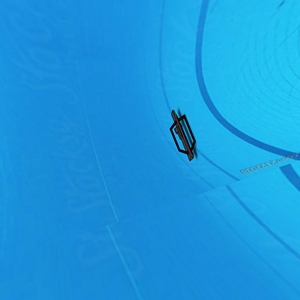submarine: (167, 109, 200, 160)
